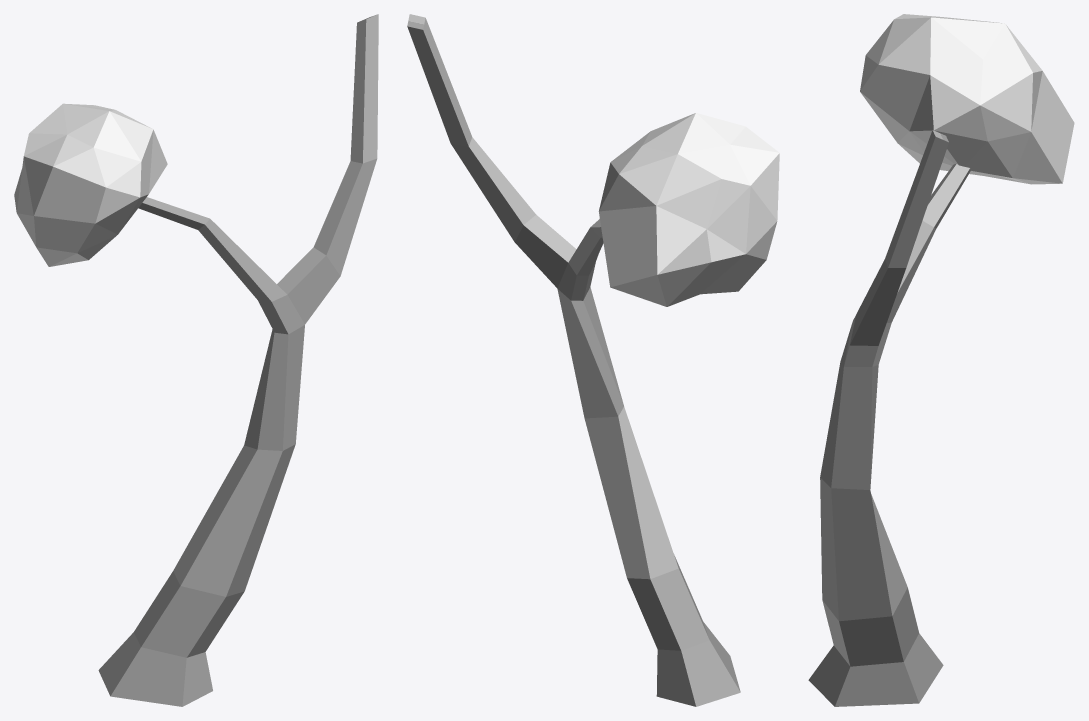
The model's file is dprop_tree0.fbx.
3 renders of one model, left to right at view 1: azimuth 30°, elevation 25°; view 2: azimuth 150°, elevation 25°; view 3: azimuth 270°, elevation 25°, orthographic. The views are drawn at different scales.
Parts seen in each view (by area): view 1: TreeA00_; view 2: TreeA00_; view 3: TreeA00_.
Part boxes in pixels (x1=…): TreeA00_: x1=14, y1=14, x2=378, y2=706; TreeA00_: x1=407, y1=14, x2=779, y2=706; TreeA00_: x1=808, y1=14, x2=1074, y2=706.
Size of the model in its own units: 116 by 66.45 by 192.
